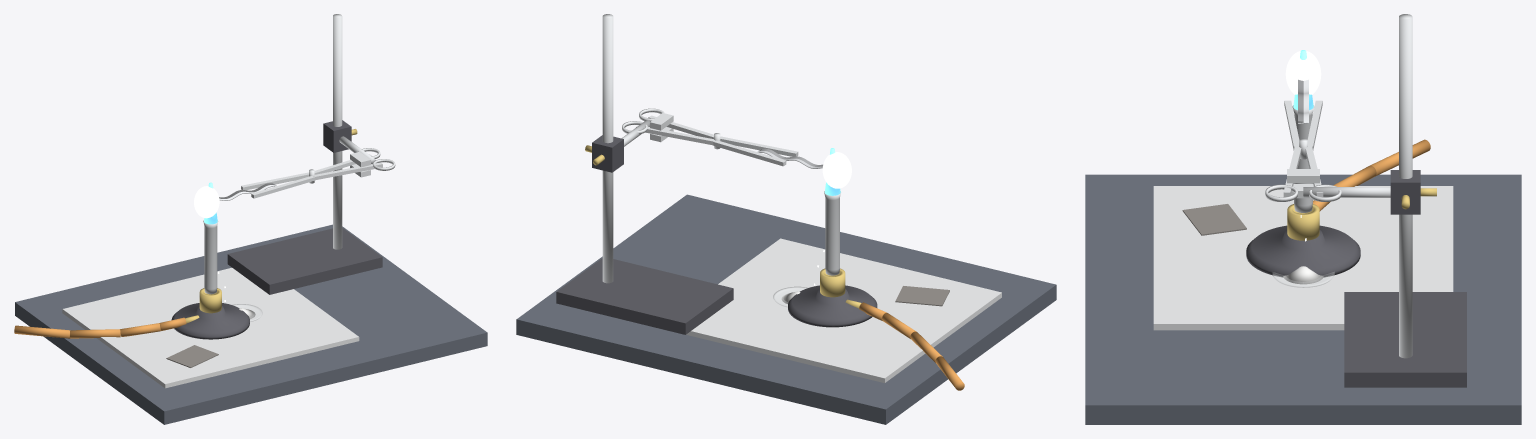
The model's file is magnesium-burning-setup.glb.
3 renders of one model, left to right at view 1: azimuth 30°, elevation 25°; view 2: azimuth 150°, elevation 25°; view 3: azimuth 270°, elevation 25°, orthographic. The views are drawn at different scales.
Visible parts, largest first — view 1: magnesium-burning-setup_Bench, magnesium-burning-setup_Tile, magnesium-burning-setup_Retort_Base, magnesium-burning-setup_Burner_Base, magnesium-burning-setup_Retort_Rod, magnesium-burning-setup_Stem, magnesium-burning-setup_Bosshead, magnesium-burning-setup_Combustion_Corona, magnesium-burning-setup_Sandpaper, magnesium-burning-setup_Hose_3, magnesium-burning-setup_Air_Collar, magnesium-burning-setup_Hose_2; view 2: magnesium-burning-setup_Bench, magnesium-burning-setup_Tile, magnesium-burning-setup_Retort_Base, magnesium-burning-setup_Retort_Rod, magnesium-burning-setup_Burner_Base, magnesium-burning-setup_Stem, magnesium-burning-setup_Bosshead, magnesium-burning-setup_Combustion_Corona, magnesium-burning-setup_Sandpaper, magnesium-burning-setup_Air_Collar, magnesium-burning-setup_Jaw_L; view 3: magnesium-burning-setup_Bench, magnesium-burning-setup_Tile, magnesium-burning-setup_Retort_Base, magnesium-burning-setup_Retort_Rod, magnesium-burning-setup_Burner_Base, magnesium-burning-setup_Sandpaper, magnesium-burning-setup_Bosshead, magnesium-burning-setup_Combustion_Corona, magnesium-burning-setup_Air_Collar, magnesium-burning-setup_Clamp_Rod, magnesium-burning-setup_Stem, magnesium-burning-setup_Hose_3 (+5 smaller).
Part boxes in pixels (bbox=[...]): magnesium-burning-setup_Bench: bbox=[15, 224, 487, 424]; magnesium-burning-setup_Tile: bbox=[62, 268, 359, 388]; magnesium-burning-setup_Retort_Base: bbox=[227, 228, 382, 294]; magnesium-burning-setup_Burner_Base: bbox=[171, 303, 249, 339]; magnesium-burning-setup_Retort_Rod: bbox=[333, 14, 342, 249]; magnesium-burning-setup_Stem: bbox=[203, 220, 218, 294]; magnesium-burning-setup_Bosshead: bbox=[323, 120, 351, 152]; magnesium-burning-setup_Combustion_Corona: bbox=[194, 186, 219, 218]; magnesium-burning-setup_Sandpaper: bbox=[166, 345, 218, 367]; magnesium-burning-setup_Hose_3: bbox=[14, 325, 70, 338]; magnesium-burning-setup_Air_Collar: bbox=[199, 288, 221, 313]; magnesium-burning-setup_Hose_2: bbox=[70, 329, 120, 338]; magnesium-burning-setup_Bench: bbox=[516, 194, 1056, 424]; magnesium-burning-setup_Tile: bbox=[686, 238, 1001, 383]; magnesium-burning-setup_Retort_Base: bbox=[556, 258, 733, 334]; magnesium-burning-setup_Retort_Rod: bbox=[602, 14, 613, 283]; magnesium-burning-setup_Burner_Base: bbox=[788, 285, 877, 327]; magnesium-burning-setup_Stem: bbox=[824, 191, 840, 275]; magnesium-burning-setup_Bosshead: bbox=[592, 135, 623, 172]; magnesium-burning-setup_Combustion_Corona: bbox=[822, 152, 851, 188]; magnesium-burning-setup_Sandpaper: bbox=[895, 286, 949, 306]; magnesium-burning-setup_Air_Collar: bbox=[820, 268, 845, 297]; magnesium-burning-setup_Jaw_L: bbox=[713, 140, 786, 166]; magnesium-burning-setup_Bench: bbox=[1085, 174, 1521, 424]; magnesium-burning-setup_Tile: bbox=[1153, 186, 1453, 330]; magnesium-burning-setup_Retort_Base: bbox=[1344, 292, 1466, 387]; magnesium-burning-setup_Retort_Rod: bbox=[1399, 14, 1412, 358]; magnesium-burning-setup_Burner_Base: bbox=[1246, 225, 1360, 277]; magnesium-burning-setup_Sandpaper: bbox=[1182, 204, 1246, 235]; magnesium-burning-setup_Bosshead: bbox=[1390, 170, 1420, 214]; magnesium-burning-setup_Combustion_Corona: bbox=[1285, 51, 1321, 94]; magnesium-burning-setup_Air_Collar: bbox=[1287, 204, 1319, 240]; magnesium-burning-setup_Clamp_Rod: bbox=[1303, 187, 1390, 197]; magnesium-burning-setup_Stem: bbox=[1292, 105, 1314, 212]; magnesium-burning-setup_Hose_3: bbox=[1370, 139, 1430, 176].
Size of the model in its own units: 0.443 by 0.307 by 0.32.
